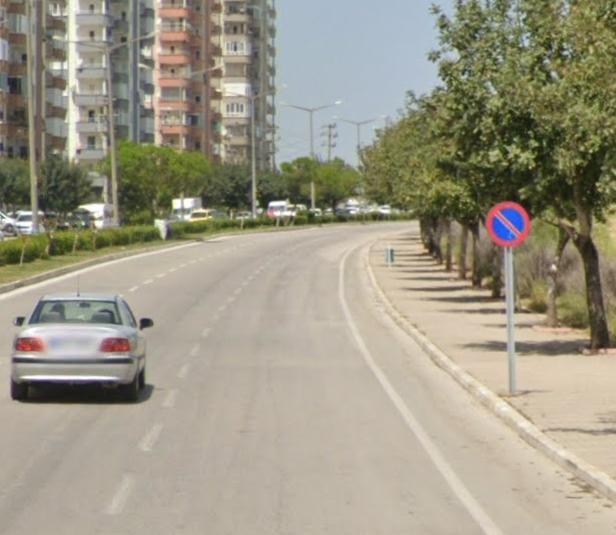nopark: (489, 199, 536, 246)
